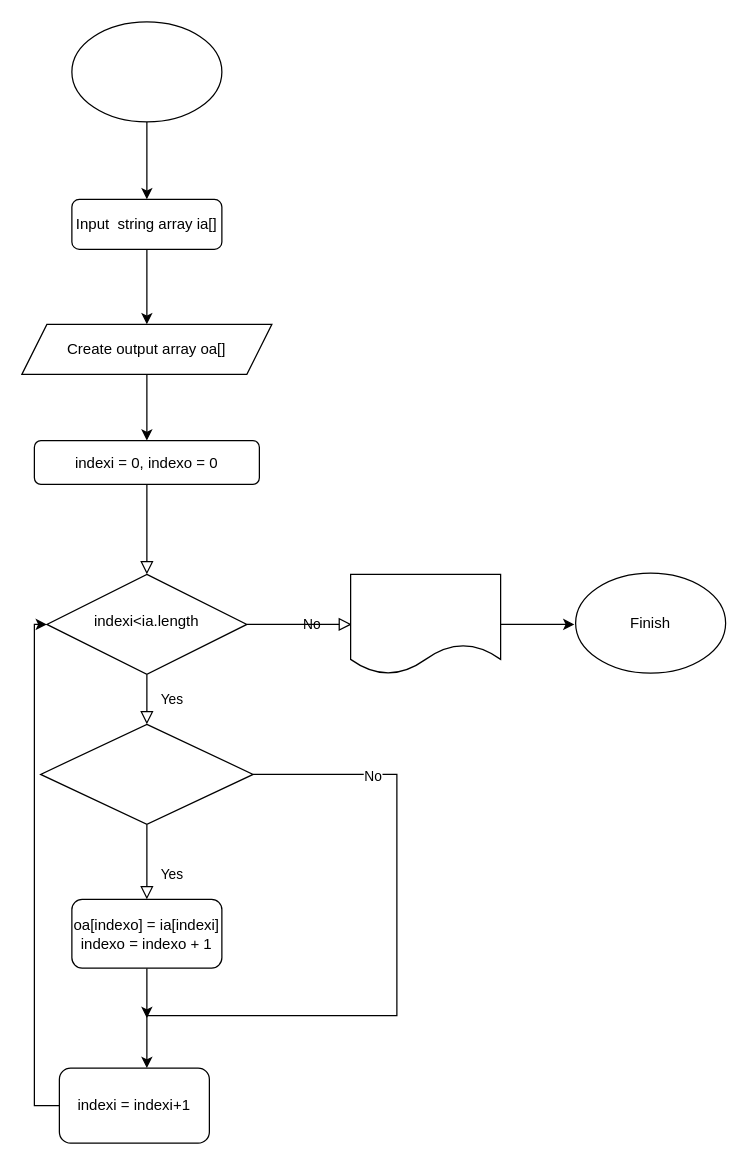
This 748x1165 diagram has some shape labels left out. Each missing label, with the box of its shape:
ia[indexi].length<4: (39, 723, 253, 824)
print oa[]: (349, 573, 501, 674)
Start: (71, 21, 222, 122)
